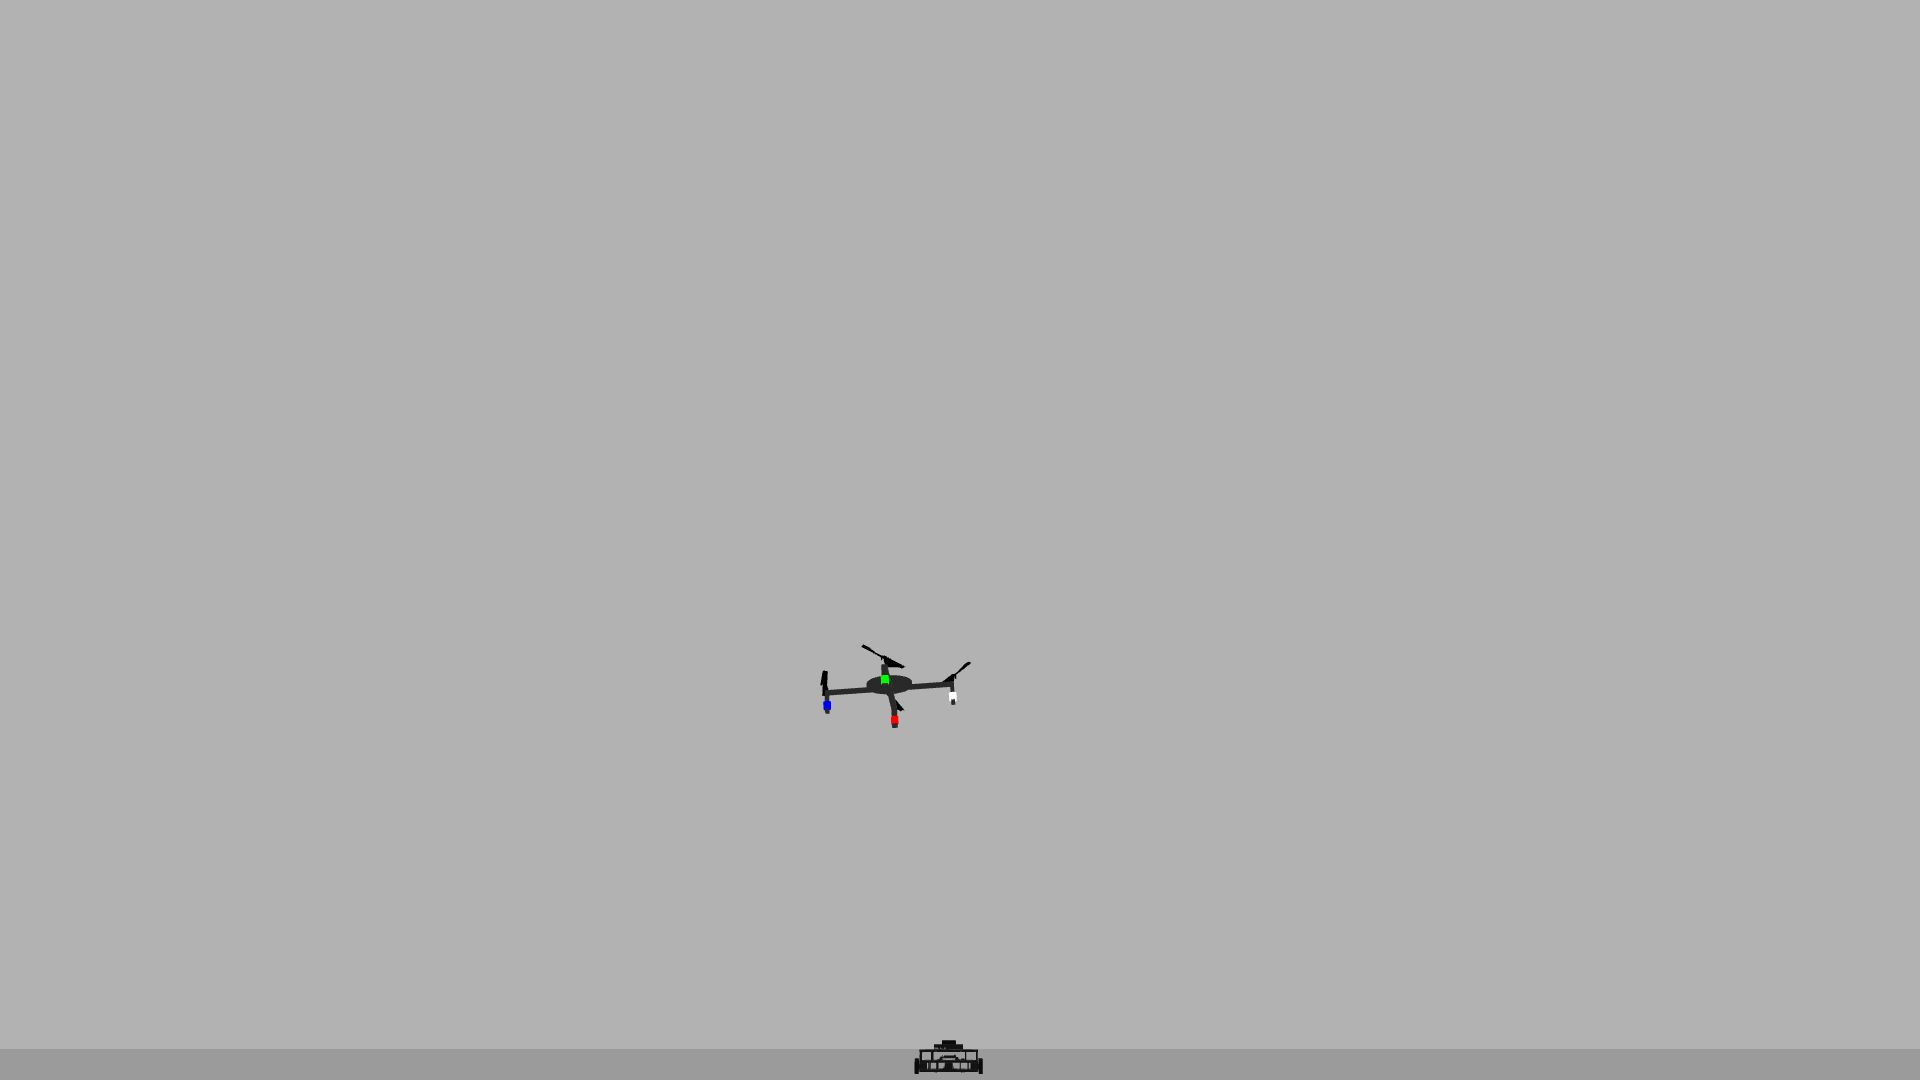drone: (802, 618, 994, 745)
